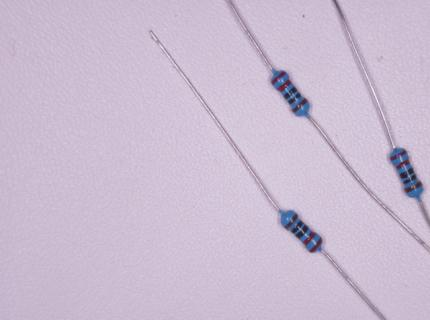Red band: (271, 71, 287, 85), (302, 231, 316, 246), (277, 79, 292, 93), (390, 149, 407, 161), (309, 237, 322, 252), (395, 158, 410, 170)
